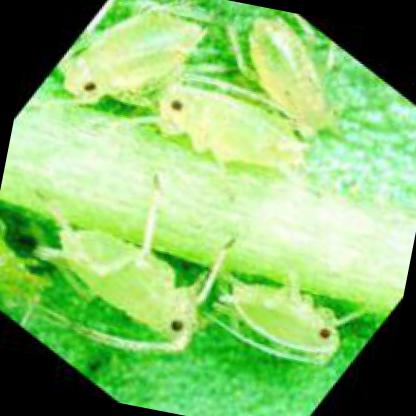schizaphis graminum: (64, 176, 206, 354), (151, 80, 314, 180), (61, 5, 207, 106), (218, 268, 342, 366)
